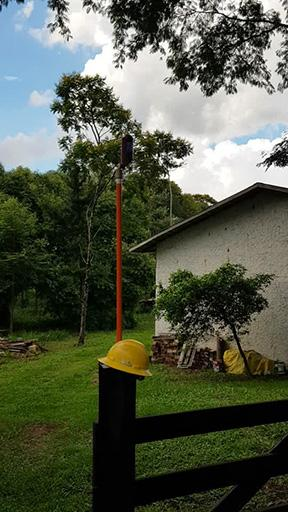Detector_Tensao_Contato: (119, 128, 134, 168)
Vara_Manobra: (112, 168, 123, 351)
